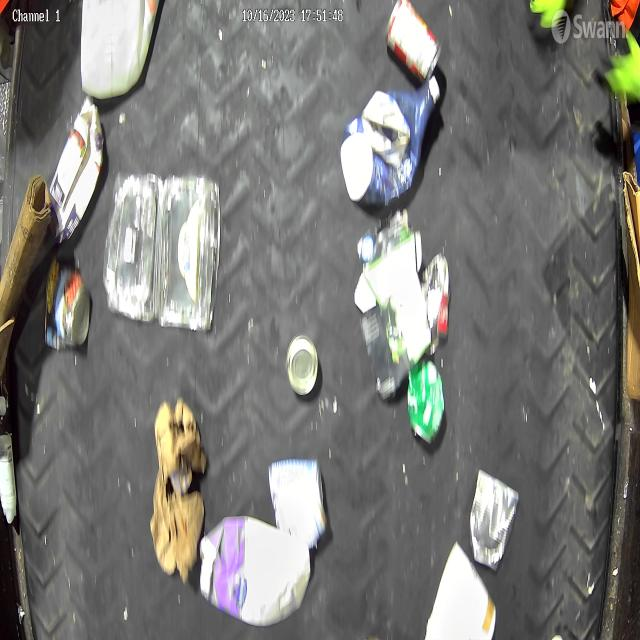can: (268, 459, 328, 551), (469, 468, 520, 574), (385, 0, 442, 86), (44, 255, 91, 351), (407, 359, 445, 447), (285, 333, 320, 396)
milk_jug: (200, 515, 310, 627), (80, 0, 160, 99)
non_white_jug: (340, 75, 440, 207)
